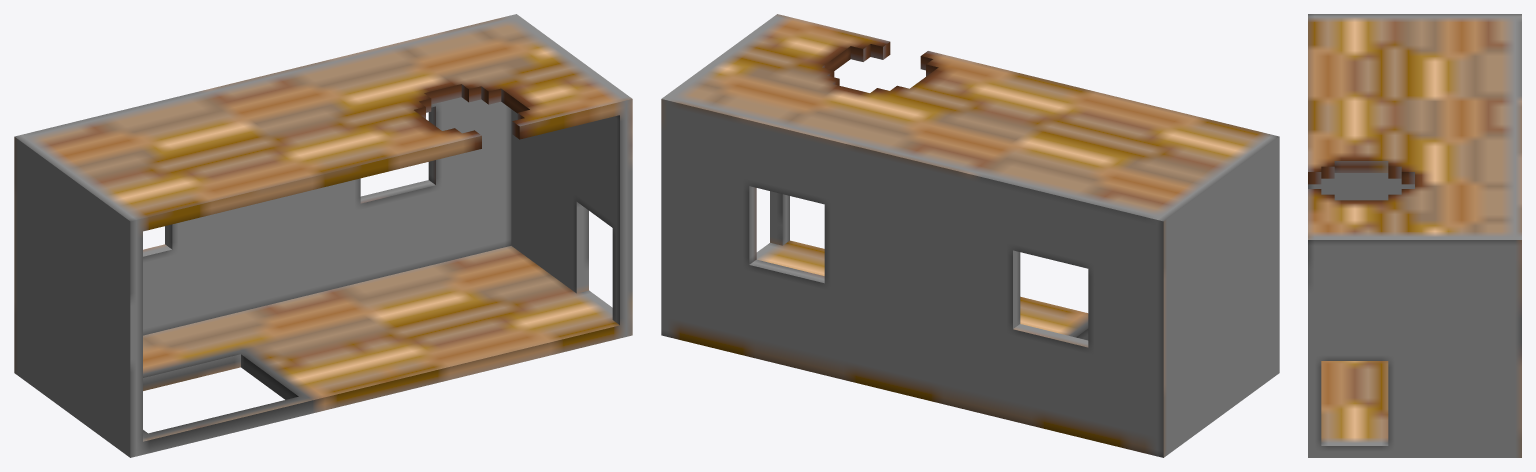
The model's file is Room witch the stairs-2.fbx.
3 views of the same model, side by side, from view 1: azimuth 30°, elevation 25°; view 2: azimuth 150°, elevation 25°; view 3: azimuth 270°, elevation 25° (orthographic). The views are drawn at different scales.
Parts seen in each view (by area): view 1: Untitled; view 2: Untitled; view 3: Untitled.
Part boxes in pixels (x1,y1,x2,y2): Untitled: (14, 14, 632, 457); Untitled: (661, 14, 1279, 457); Untitled: (1308, 14, 1521, 457).
Bounding box in the file's own units: 400 × 180 × 160.
Materials: 1 (1 with a texture image).
